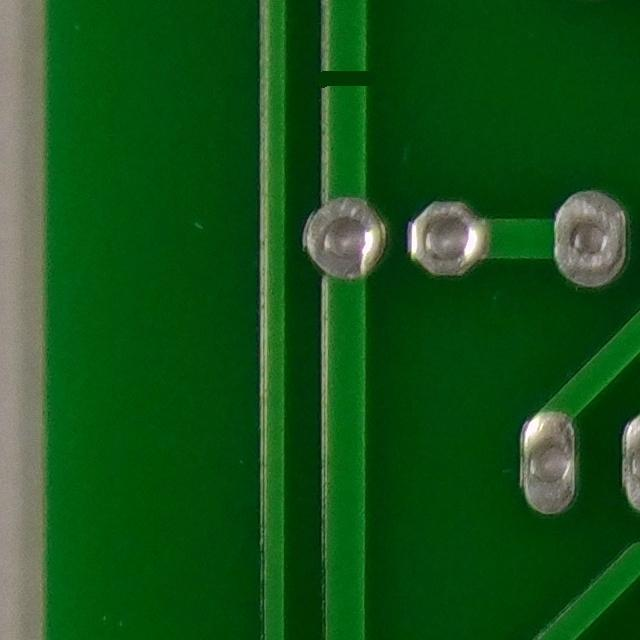open_circuit: (301, 50, 393, 97)
